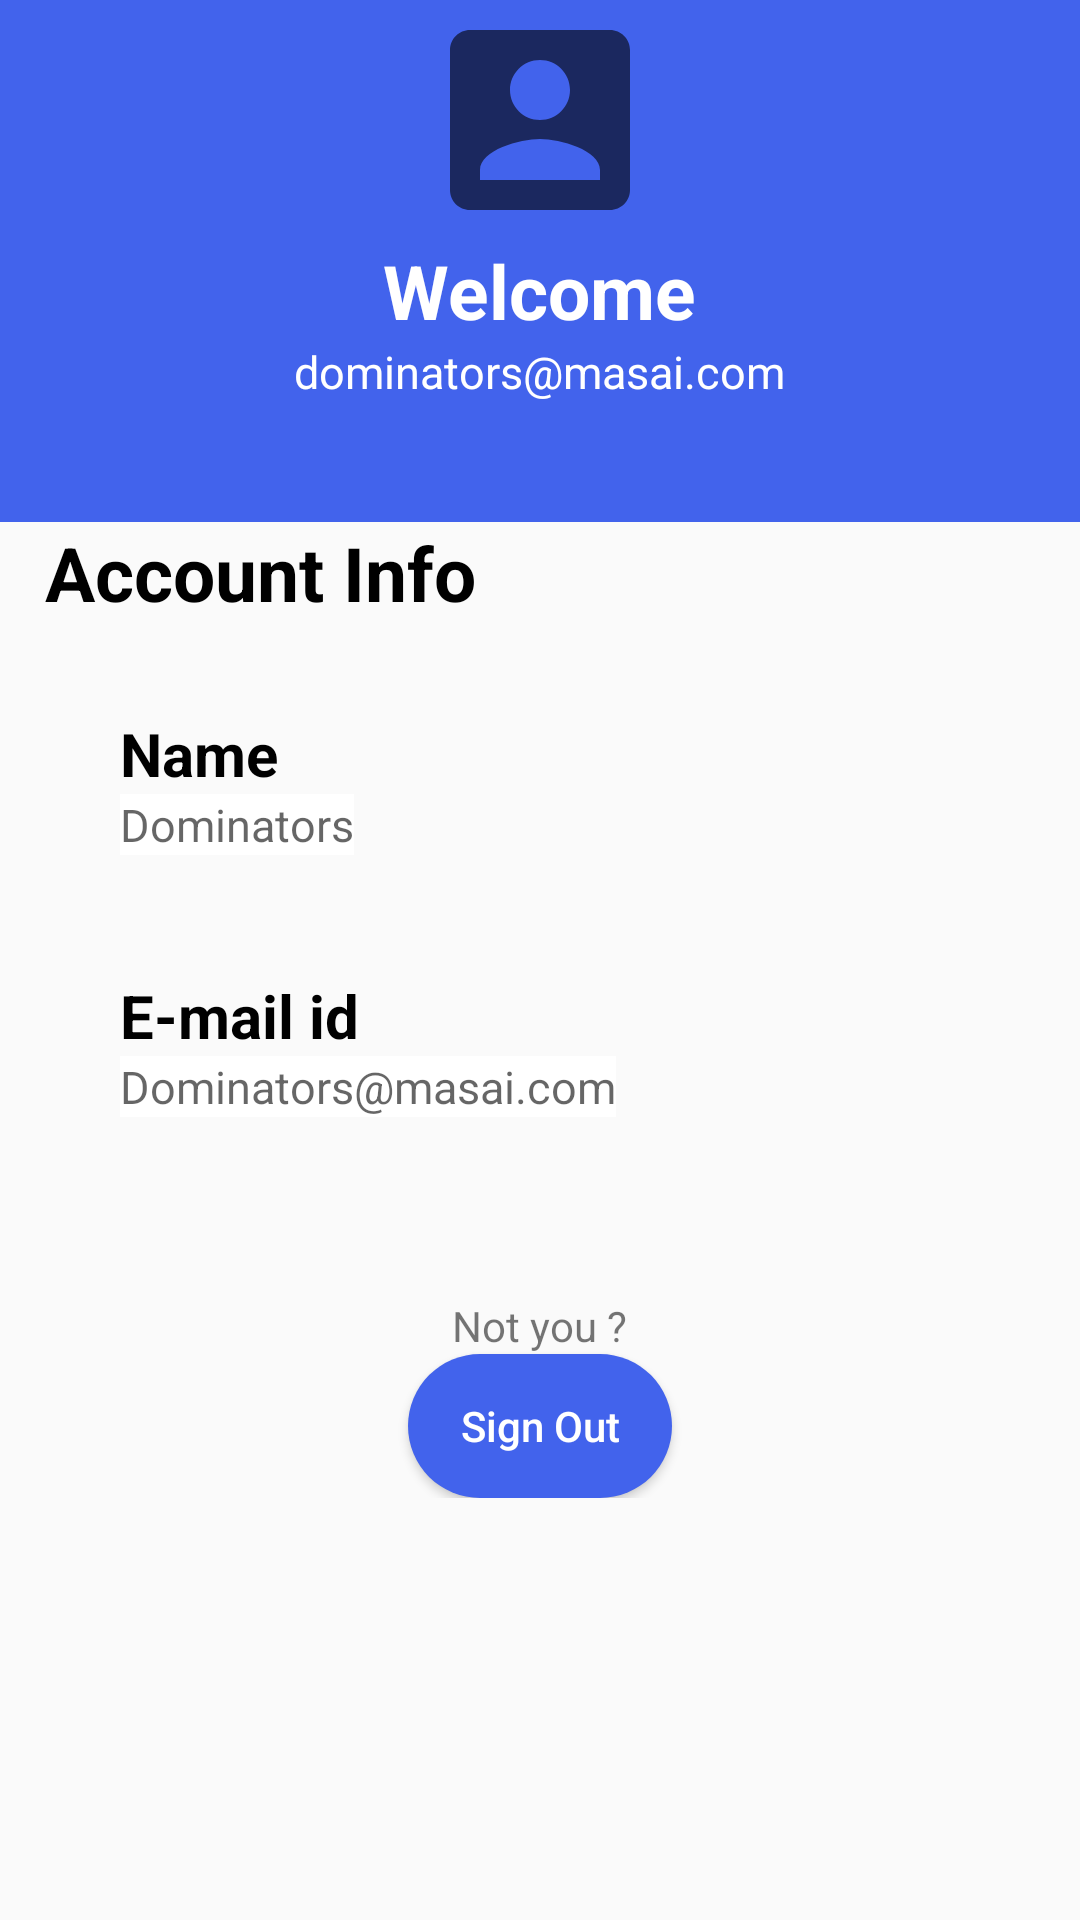

Icon click points for this 1080×1920 phone screenshot, format (x=x, y=y):
iconprofile: (x=540, y=120)
